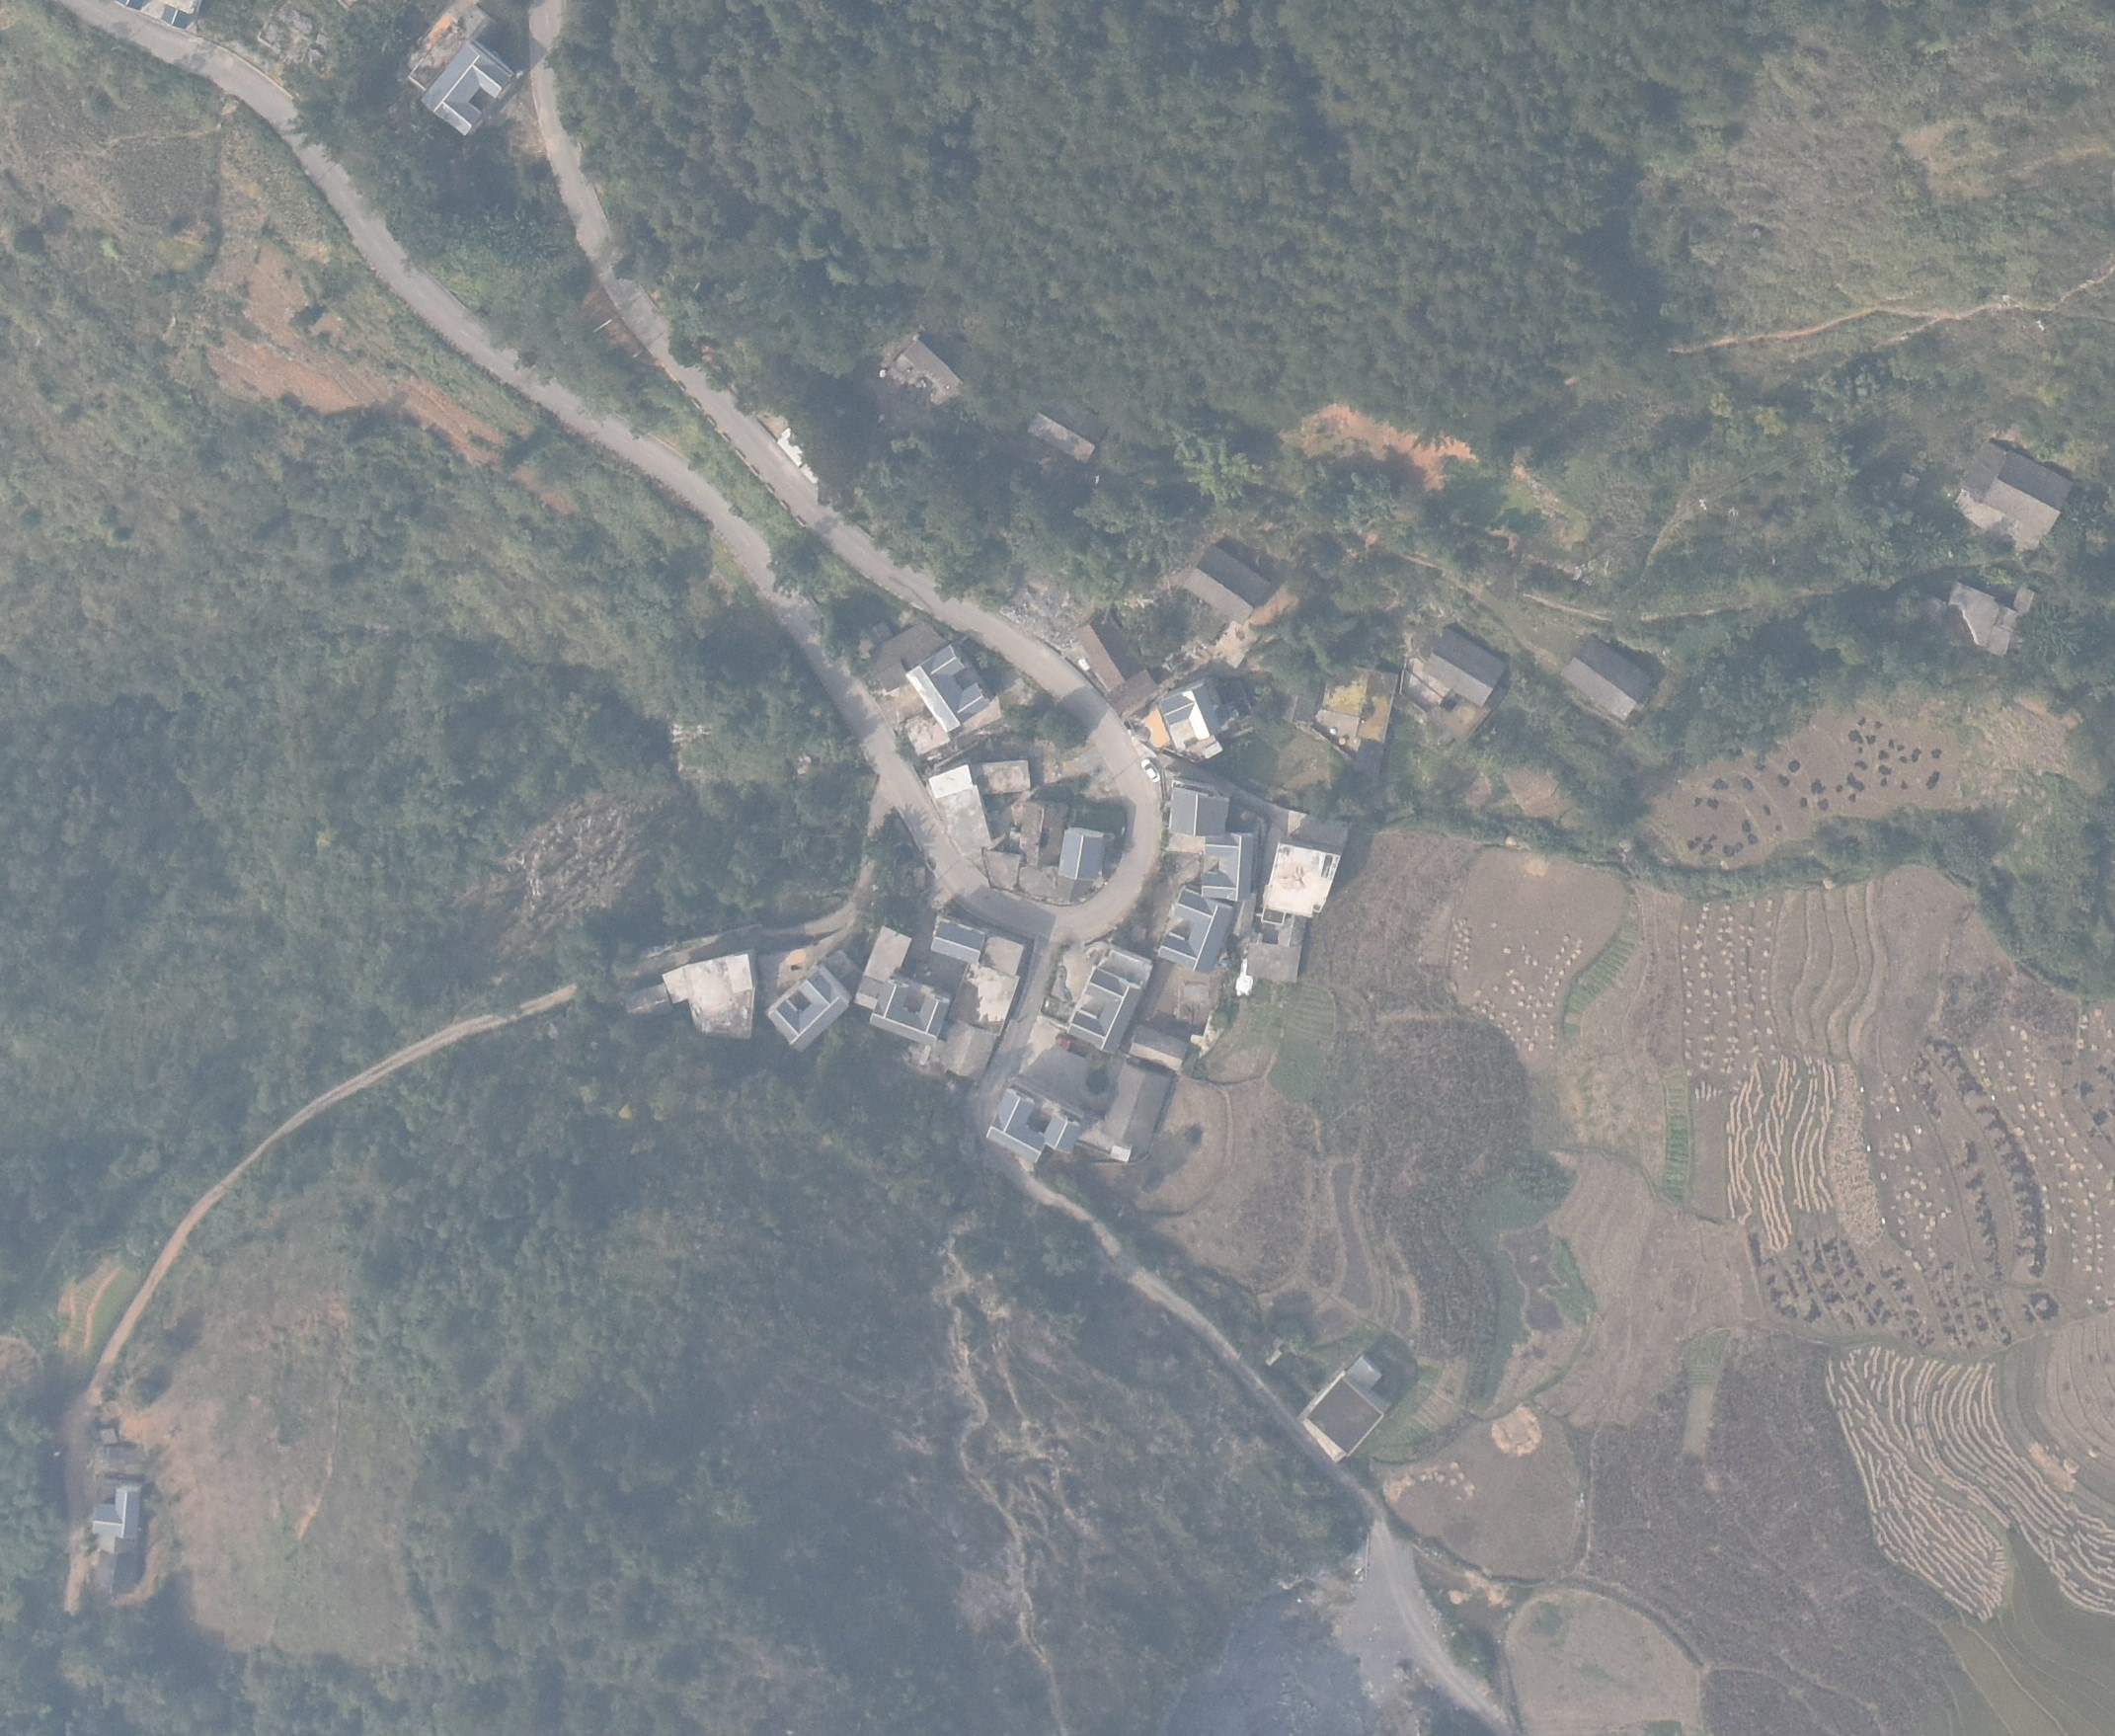building: (409, 9, 515, 134), (1957, 441, 2072, 547), (1300, 1352, 1385, 1461), (662, 949, 756, 1041), (1097, 1056, 1171, 1161), (1562, 637, 1649, 721), (906, 643, 988, 732), (767, 960, 847, 1051), (1949, 580, 2037, 658), (986, 1086, 1077, 1161), (1318, 662, 1399, 741), (1158, 887, 1232, 973), (1427, 626, 1507, 704), (1262, 835, 1337, 916), (1185, 546, 1270, 617), (931, 762, 992, 855), (1066, 968, 1134, 1051), (869, 621, 945, 692), (1074, 613, 1142, 692), (949, 963, 1019, 1039), (870, 978, 952, 1041), (1028, 403, 1108, 464), (858, 927, 911, 1014), (893, 339, 963, 404), (90, 1477, 141, 1557), (1162, 682, 1223, 748), (1245, 915, 1305, 982), (1200, 833, 1251, 900), (1170, 781, 1228, 838), (939, 1020, 994, 1078), (1016, 801, 1063, 868), (1128, 1025, 1187, 1069), (1059, 827, 1105, 881), (931, 917, 983, 962), (1106, 671, 1154, 716), (972, 760, 1031, 794), (1214, 622, 1256, 665), (624, 983, 669, 1017), (1283, 697, 1316, 725), (1057, 877, 1089, 904)
vehicle: (1055, 1032, 1089, 1057), (1140, 758, 1160, 782)
